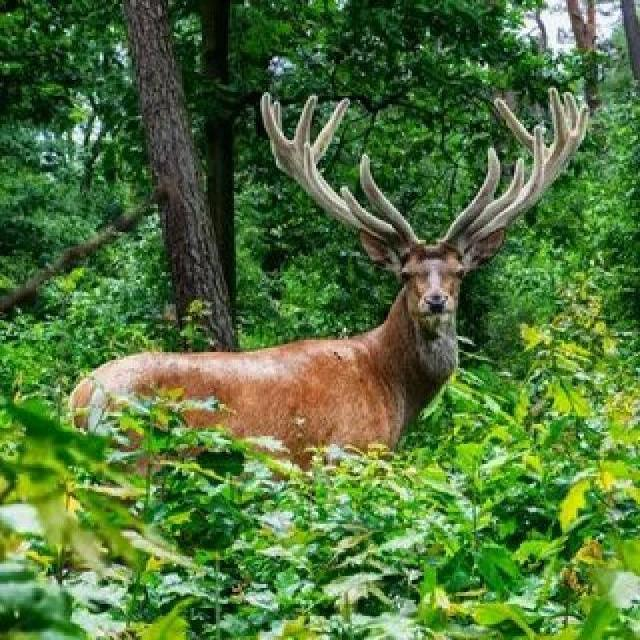deer: (0, 93, 517, 531)
